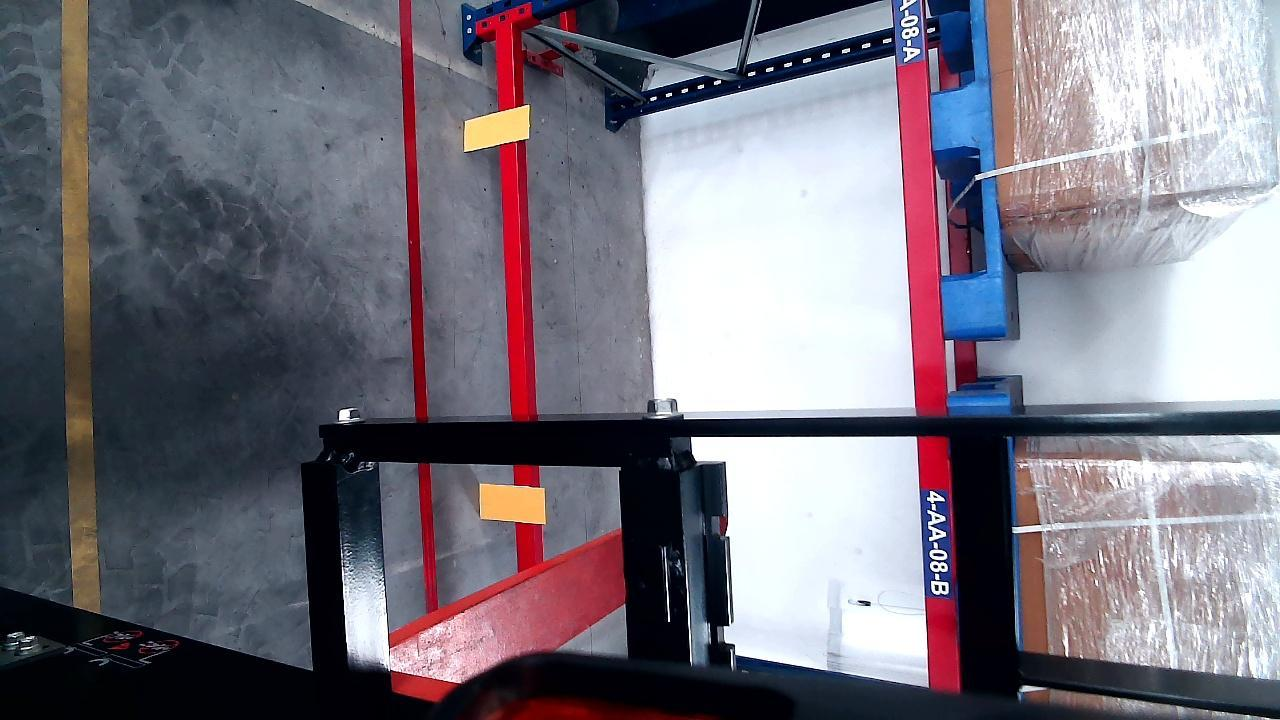red_line: (398, 0, 431, 422)
yellow_line: (59, 0, 99, 611)
